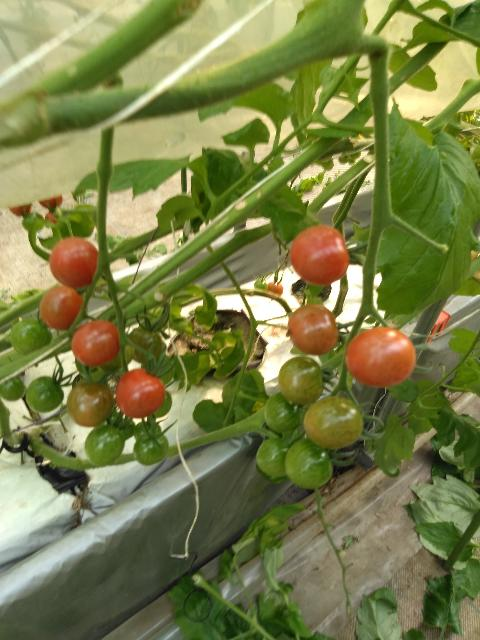l_fully_ripened: (345, 326, 415, 386), (290, 225, 350, 285), (48, 237, 98, 287), (116, 367, 165, 417), (71, 320, 120, 366)
l_green: (303, 395, 362, 450), (285, 436, 333, 489), (278, 357, 325, 405), (264, 393, 306, 432), (85, 425, 124, 465), (10, 319, 52, 354), (256, 439, 288, 484), (25, 377, 63, 411), (134, 432, 169, 466)
l_half_ripened: (287, 304, 339, 356), (68, 383, 114, 427), (39, 286, 83, 331)
